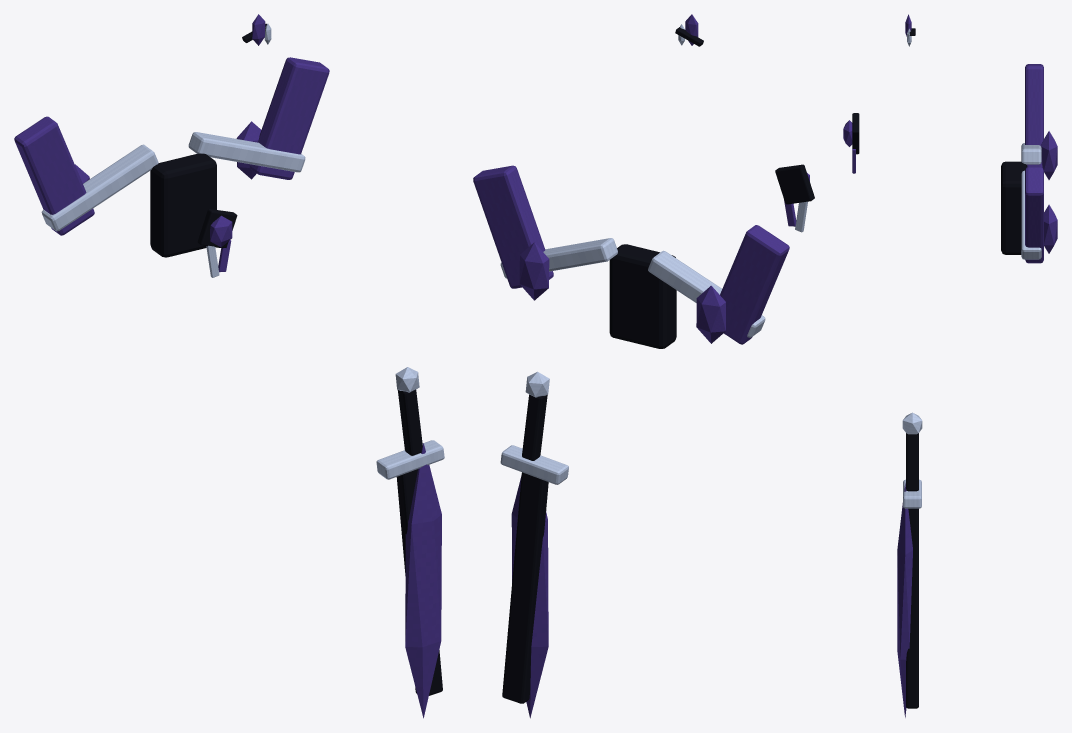
Rendered from equipment_materials_v1.glb.
3 renders of one model, left to right at view 1: azimuth 30°, elevation 25°; view 2: azimuth 150°, elevation 25°; view 3: azimuth 270°, elevation 25°, orthographic. The views are drawn at different scales.
Parts seen in each view (by area): view 1: Photon blade crystal, Drone mount, Drone wing.001, Drone wing, Drone stabilizer, Drone stabilizer.001, Photon blade guard, Photon blade spine, Photon blade grip; view 2: Photon blade spine, Drone mount, Drone wing, Drone wing.001, Photon blade crystal, Drone stabilizer, Drone stabilizer.001, Photon blade guard, Drone reactor.001, Drone reactor, Photon blade grip, Brooch backing; view 3: Photon blade crystal, Drone mount, Photon blade spine, Drone wing.001, Drone wing, Photon blade grip, Drone reactor, Drone stabilizer.001, Drone reactor.001, Drone stabilizer, Photon blade guard, Photon blade pommel.
Boxes of the visible parts, left/top/right/bottom form: Photon blade crystal: left=405, top=443, right=441, bottom=718; Drone mount: left=150, top=153, right=216, bottom=257; Drone wing.001: left=249, top=57, right=329, bottom=179; Drone wing: left=14, top=116, right=94, bottom=235; Drone stabilizer: left=41, top=144, right=158, bottom=231; Drone stabilizer.001: left=188, top=132, right=305, bottom=172; Photon blade guard: left=376, top=440, right=444, bottom=479; Photon blade spine: left=396, top=469, right=442, bottom=695; Photon blade grip: left=397, top=389, right=422, bottom=455; Photon blade spine: left=502, top=472, right=548, bottom=703; Drone mount: left=609, top=244, right=676, bottom=348; Drone wing: left=720, top=225, right=789, bottom=344; Drone wing.001: left=473, top=165, right=553, bottom=288; Photon blade crystal: left=511, top=475, right=548, bottom=718; Drone stabilizer: left=648, top=250, right=765, bottom=337; Drone stabilizer.001: left=500, top=238, right=617, bottom=278; Photon blade guard: left=500, top=445, right=568, bottom=484; Drone reactor.001: left=519, top=242, right=549, bottom=300; Drone reactor: left=696, top=285, right=725, bottom=343; Photon blade grip: left=522, top=394, right=547, bottom=460; Brooch backing: left=775, top=164, right=814, bottom=204; Photon blade crystal: left=897, top=483, right=912, bottom=717; Drone mount: left=1001, top=161, right=1027, bottom=254; Photon blade spine: left=906, top=508, right=918, bottom=708; Drone wing.001: left=1025, top=167, right=1043, bottom=263; Drone wing: left=1025, top=64, right=1043, bottom=167; Photon blade grip: left=906, top=433, right=918, bottom=491; Drone reactor: left=1040, top=131, right=1057, bottom=179; Drone stabilizer.001: left=1021, top=170, right=1041, bottom=259; Drone reactor.001: left=1044, top=204, right=1057, bottom=253; Drone stabilizer: left=1021, top=143, right=1041, bottom=164; Photon blade guard: left=903, top=479, right=921, bottom=508; Photon blade pommel: left=902, top=412, right=922, bottom=434.
Bounding box in the file's own units: 1.19 × 2.42 × 0.738.
Materials: 3 (3 with a texture image).
